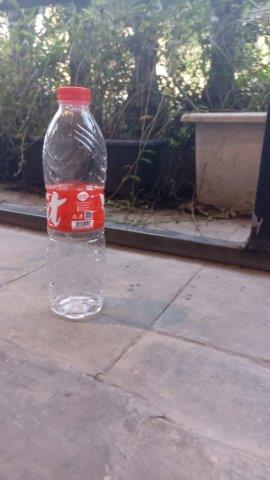botolplastik: (41, 87, 110, 318)
